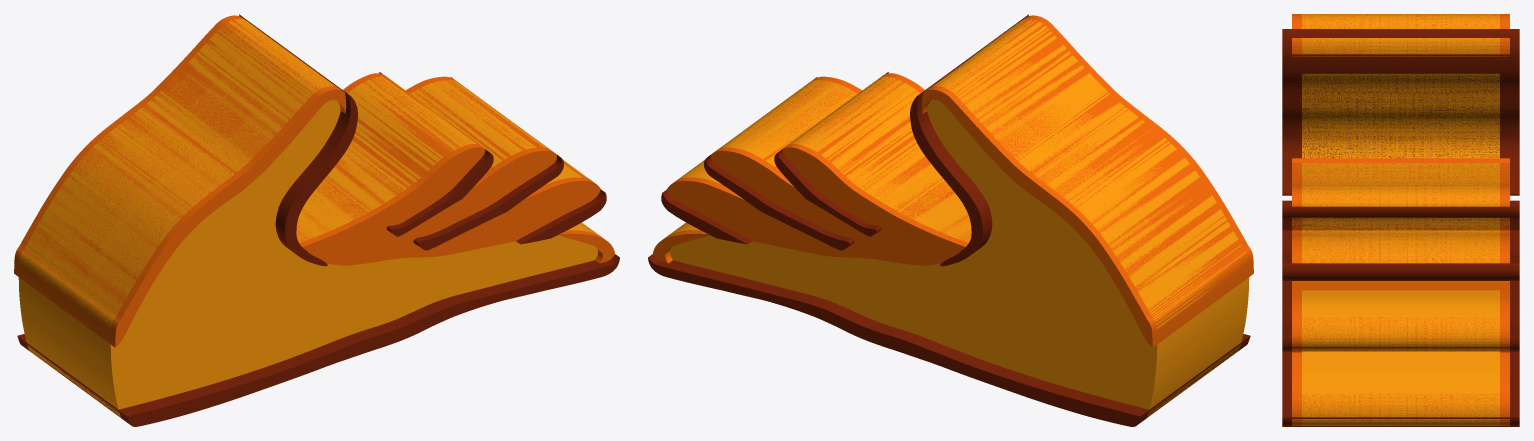
The model's file is U+1FAF4.obj.
3 renders of one model, left to right at view 1: azimuth 30°, elevation 25°; view 2: azimuth 150°, elevation 25°; view 3: azimuth 270°, elevation 25°, orthographic. The views are drawn at different scales.
Parts seen in each view (by area): view 1: U+1FAF4_layer00_obj00, U+1FAF4_layer01_obj00, U+1FAF4_layer01_obj02, U+1FAF4_layer02_obj03, U+1FAF4_layer02_obj00, U+1FAF4_layer02_obj02, U+1FAF4_layer02_obj04, U+1FAF4_layer02_obj01, U+1FAF4_layer01_obj01; view 2: U+1FAF4_layer00_obj00, U+1FAF4_layer01_obj00, U+1FAF4_layer01_obj02, U+1FAF4_layer02_obj03, U+1FAF4_layer02_obj00, U+1FAF4_layer02_obj02, U+1FAF4_layer02_obj04, U+1FAF4_layer02_obj01, U+1FAF4_layer01_obj01; view 3: U+1FAF4_layer00_obj00, U+1FAF4_layer02_obj00, U+1FAF4_layer01_obj02, U+1FAF4_layer02_obj02, U+1FAF4_layer01_obj01, U+1FAF4_layer02_obj04, U+1FAF4_layer01_obj00, U+1FAF4_layer02_obj03, U+1FAF4_layer02_obj01.
Boxes of the visible parts, x1=… form: U+1FAF4_layer00_obj00: x1=18, y1=18, x2=598, y2=418; U+1FAF4_layer01_obj00: x1=14, y1=15, x2=346, y2=347; U+1FAF4_layer01_obj02: x1=296, y1=73, x2=600, y2=265; U+1FAF4_layer02_obj03: x1=17, y1=254, x2=619, y2=426; U+1FAF4_layer02_obj00: x1=239, y1=14, x2=357, y2=266; U+1FAF4_layer02_obj02: x1=413, y1=77, x2=563, y2=250; U+1FAF4_layer02_obj04: x1=379, y1=72, x2=493, y2=236; U+1FAF4_layer02_obj01: x1=516, y1=189, x2=606, y2=244; U+1FAF4_layer01_obj01: x1=559, y1=223, x2=614, y2=263; U+1FAF4_layer00_obj00: x1=668, y1=19, x2=1249, y2=418; U+1FAF4_layer01_obj00: x1=921, y1=15, x2=1253, y2=347; U+1FAF4_layer01_obj02: x1=667, y1=73, x2=971, y2=265; U+1FAF4_layer02_obj03: x1=648, y1=254, x2=1250, y2=426; U+1FAF4_layer02_obj00: x1=910, y1=14, x2=1028, y2=266; U+1FAF4_layer02_obj02: x1=704, y1=77, x2=854, y2=250; U+1FAF4_layer02_obj04: x1=774, y1=72, x2=888, y2=236; U+1FAF4_layer02_obj01: x1=661, y1=189, x2=751, y2=244; U+1FAF4_layer01_obj01: x1=653, y1=230, x2=708, y2=263; U+1FAF4_layer00_obj00: x1=1302, y1=14, x2=1499, y2=425; U+1FAF4_layer02_obj00: x1=1282, y1=29, x2=1519, y2=195; U+1FAF4_layer01_obj02: x1=1292, y1=158, x2=1509, y2=351; U+1FAF4_layer02_obj02: x1=1282, y1=243, x2=1519, y2=280; U+1FAF4_layer01_obj01: x1=1292, y1=352, x2=1509, y2=425; U+1FAF4_layer02_obj04: x1=1282, y1=201, x2=1519, y2=230; U+1FAF4_layer01_obj00: x1=1292, y1=14, x2=1509, y2=56; U+1FAF4_layer02_obj03: x1=1282, y1=200, x2=1519, y2=426; U+1FAF4_layer02_obj01: x1=1282, y1=325, x2=1519, y2=351.
Size of the model in its own units: 0.3139 by 0.1711 by 0.12.
